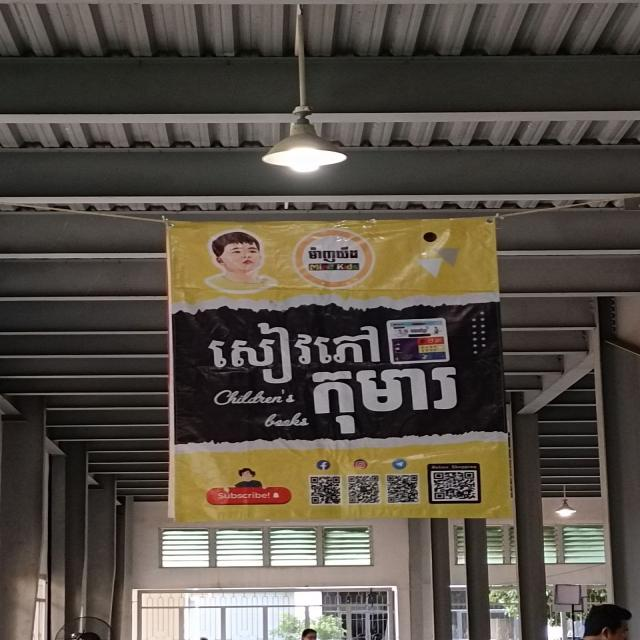Yolov11_80vkh: (191, 318, 384, 386), (307, 362, 471, 436), (305, 244, 361, 264)
